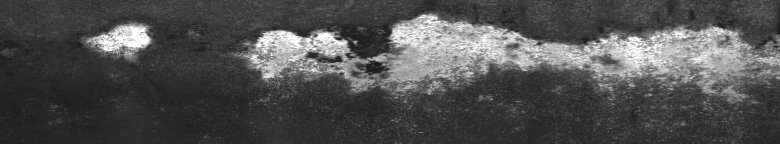kb: (51, 5, 776, 134)
